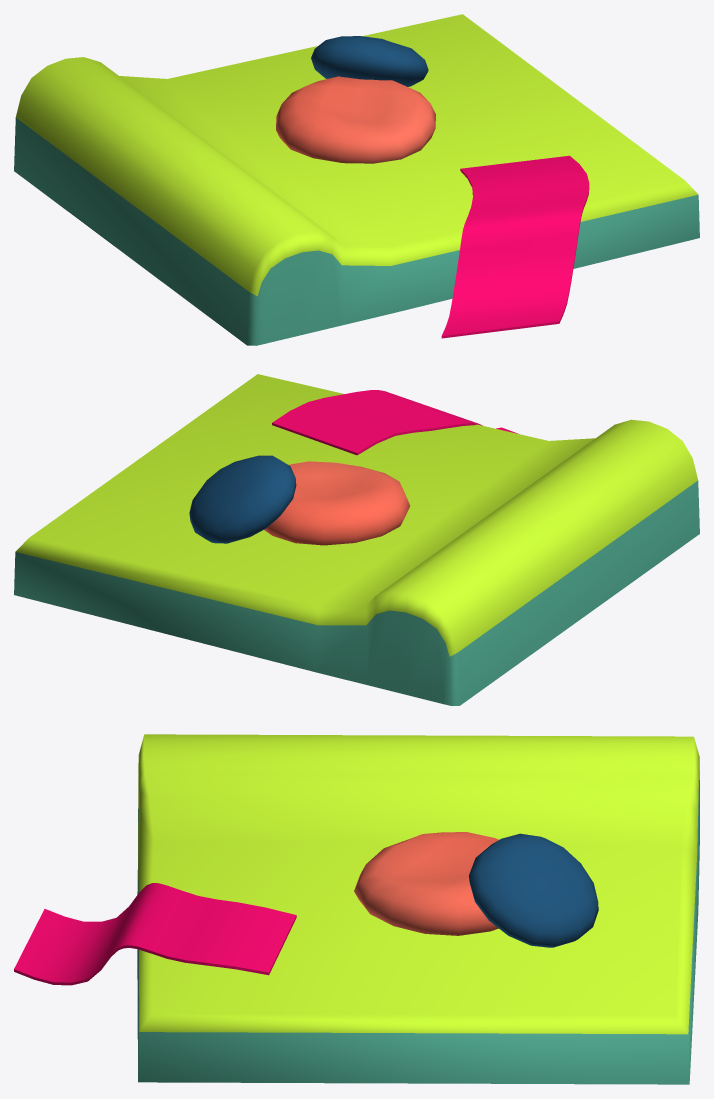
The model's file is SM_Y_06_F_Mattress1.fbx.
3 renders of one model, top to bottom at view 1: azimuth 30°, elevation 25°; view 2: azimuth 150°, elevation 25°; view 3: azimuth 270°, elevation 25°, orthographic. The views are drawn at different scales.
Parts seen in each view (by area): view 1: SM_Y_06_F_Mattress1; view 2: SM_Y_06_F_Mattress1; view 3: SM_Y_06_F_Mattress1.
Boxes of the visible parts, left/top/right/bottom form: SM_Y_06_F_Mattress1: left=14, top=14, right=699, bottom=345; SM_Y_06_F_Mattress1: left=14, top=374, right=699, bottom=705; SM_Y_06_F_Mattress1: left=14, top=734, right=699, bottom=1084.
Size of the model in its own units: 252 by 65.09 by 285.
